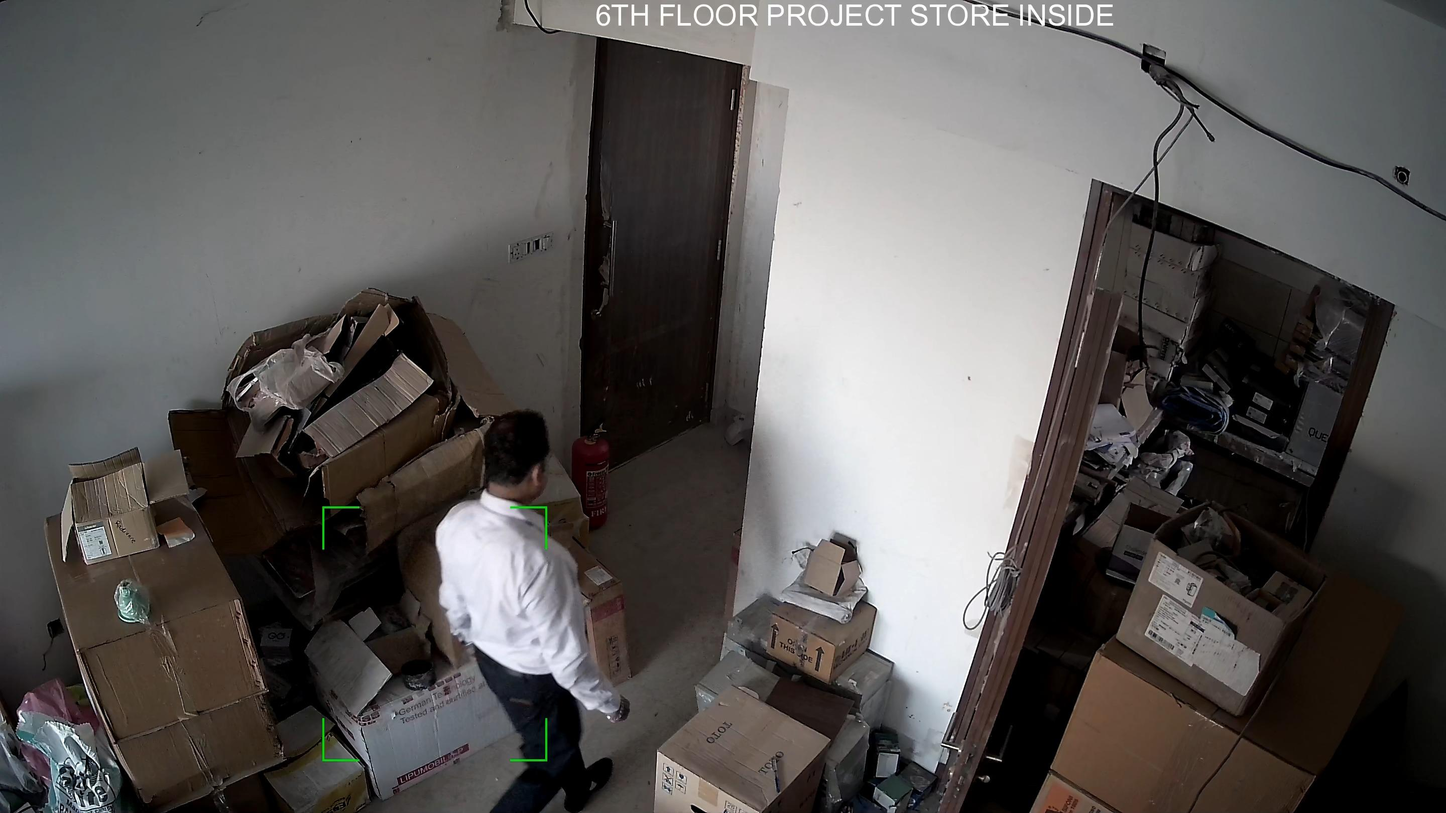Door-Close: (566, 33, 744, 469)
